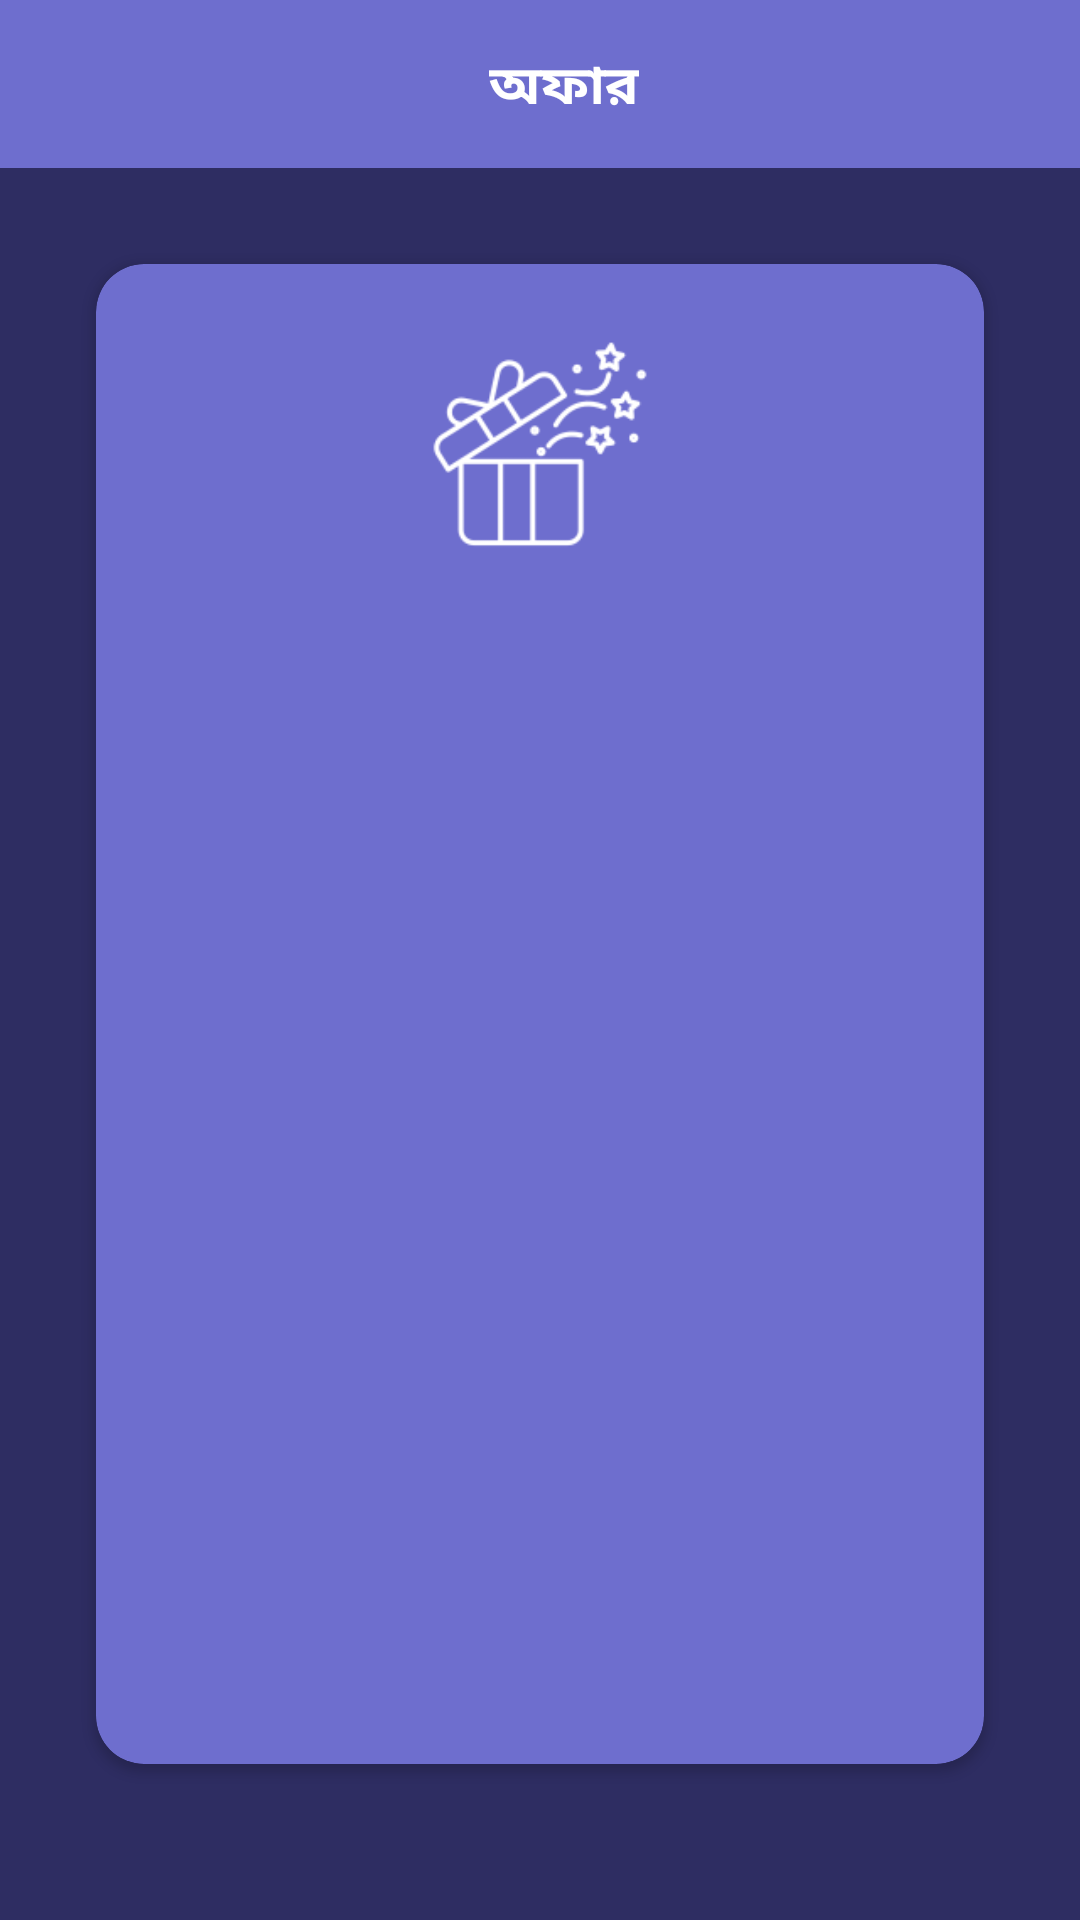

Screen size 1080px×1920px. Icon name, then its center in pixels as (x,y):
gift box: (540,444)
